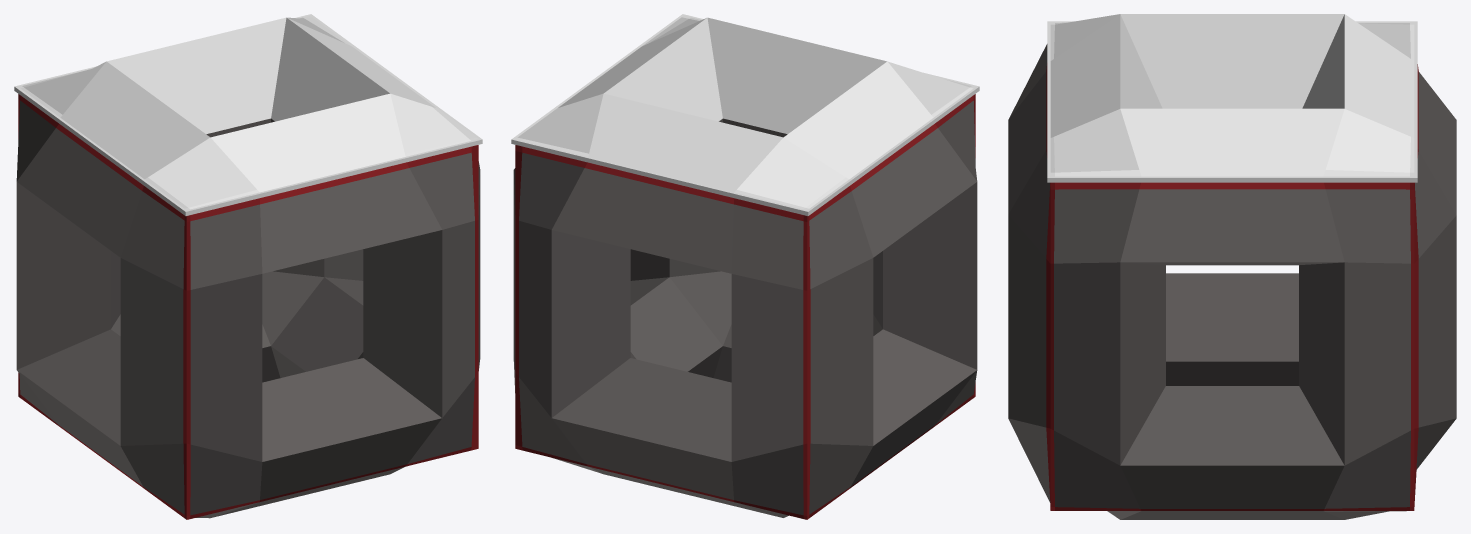
Rendered from StructureLumineuse.fbx.
3 renders of one model, left to right at view 1: azimuth 30°, elevation 25°; view 2: azimuth 150°, elevation 25°; view 3: azimuth 270°, elevation 25°, orthographic. The views are drawn at different scales.
Visible parts, largest first — view 1: Cube; view 2: Cube; view 3: Cube.
Part boxes in pixels (x1=…): Cube: x1=14, y1=14, x2=482, y2=519; Cube: x1=511, y1=14, x2=979, y2=519; Cube: x1=1008, y1=14, x2=1456, y2=519.
Bounding box in the file's own units: 247 × 249 × 247.
